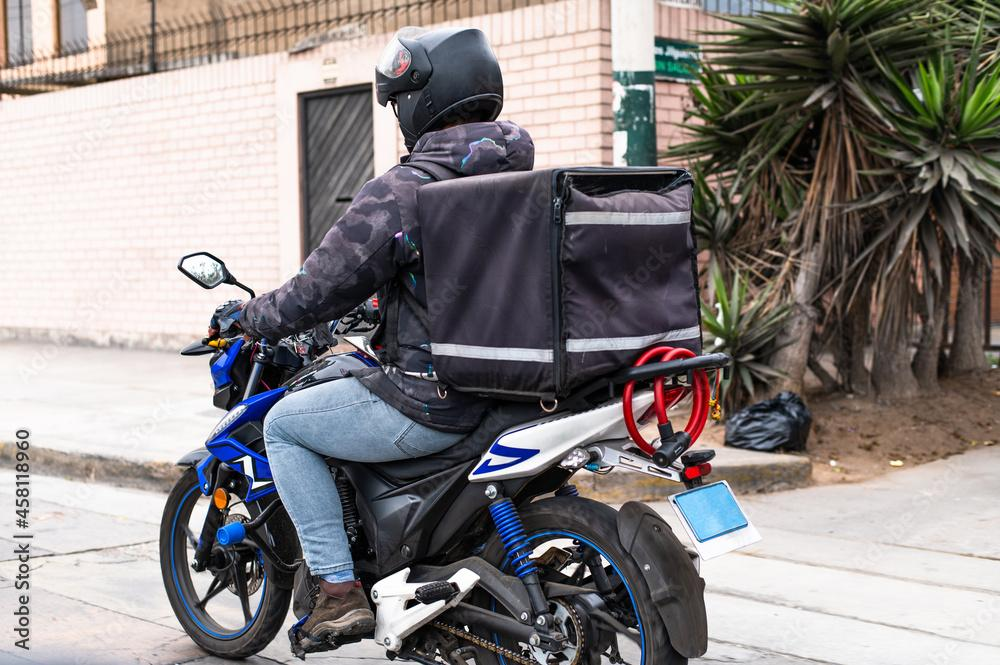helmet: (374, 25, 505, 164)
